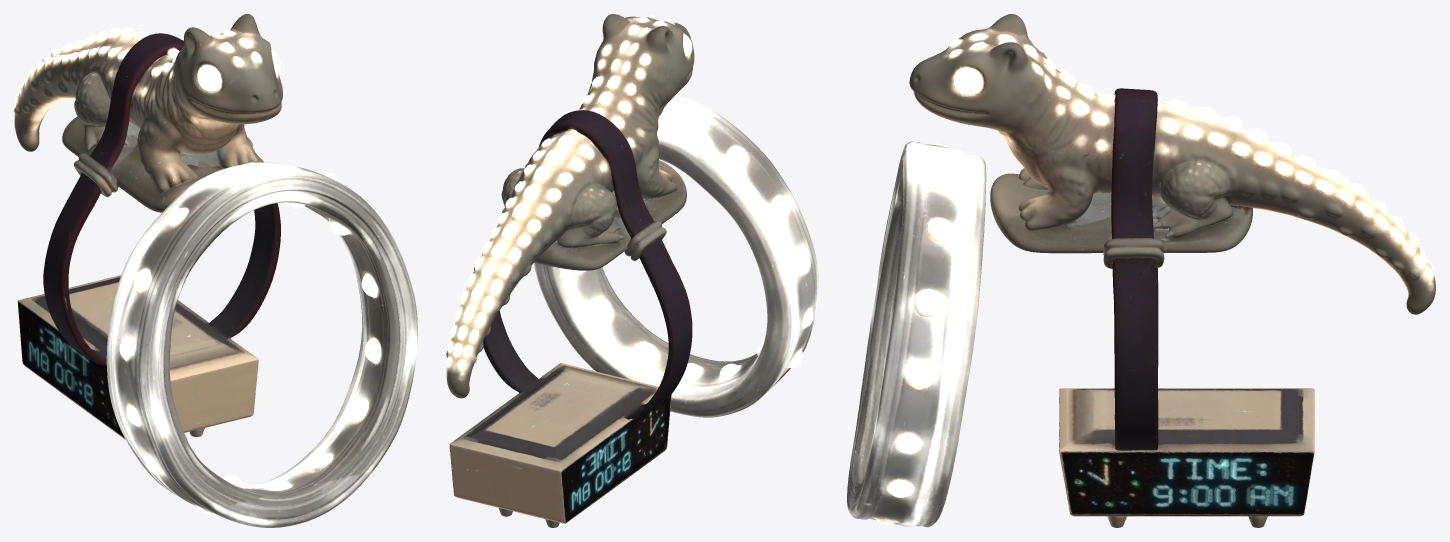
File: Meshy_AI_Dino_Ring_Light_0516125858_texture-compressed.glb
3 views of the same model, side by side, from view 1: azimuth 30°, elevation 25°; view 2: azimuth 150°, elevation 25°; view 3: azimuth 270°, elevation 25° (orthographic). The views are drawn at different scales.
Visible parts, largest first — view 1: mesh_0; view 2: mesh_0; view 3: mesh_0.
Boxes of the visible parts, bbox=[...] form: mesh_0: bbox=[14, 14, 417, 527]; mesh_0: bbox=[446, 14, 818, 527]; mesh_0: bbox=[847, 14, 1435, 527].
Size of the model in its own units: 1.13 by 1.72 by 1.9.
1 material, 1 textured.
